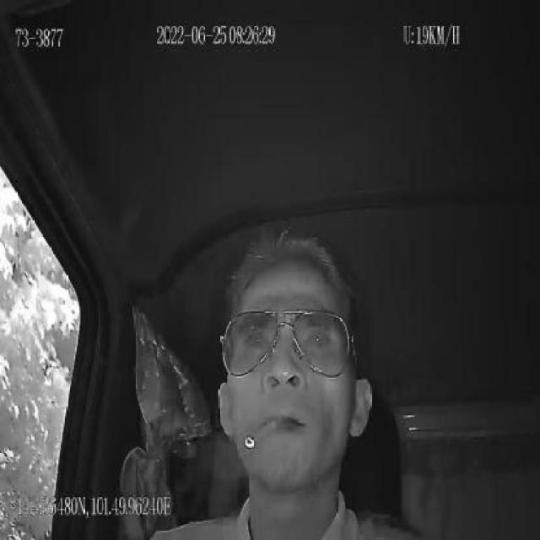smoking: (244, 411, 288, 452)
